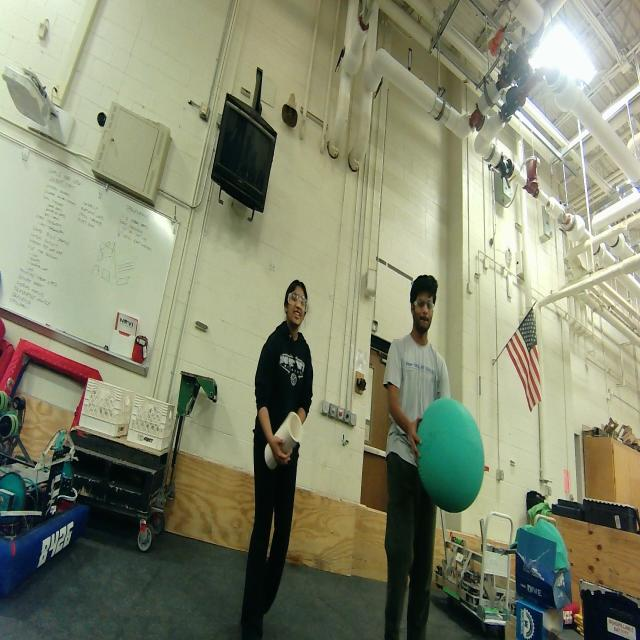algae: (414, 394, 488, 516)
coral: (260, 406, 304, 470)
